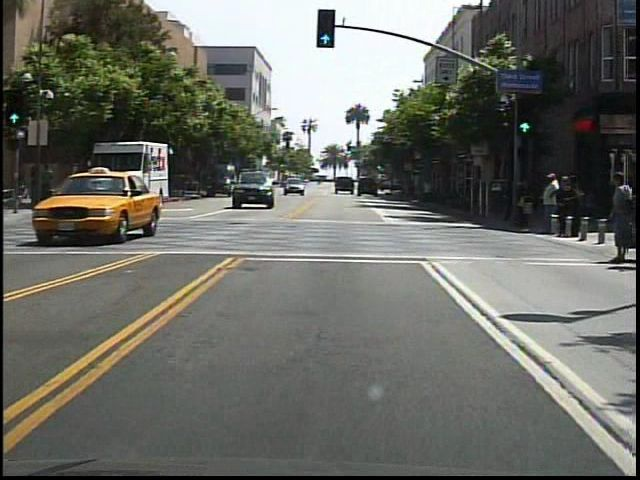person: (600, 170, 635, 265), (538, 166, 559, 238), (39, 161, 59, 199), (30, 165, 43, 210)
